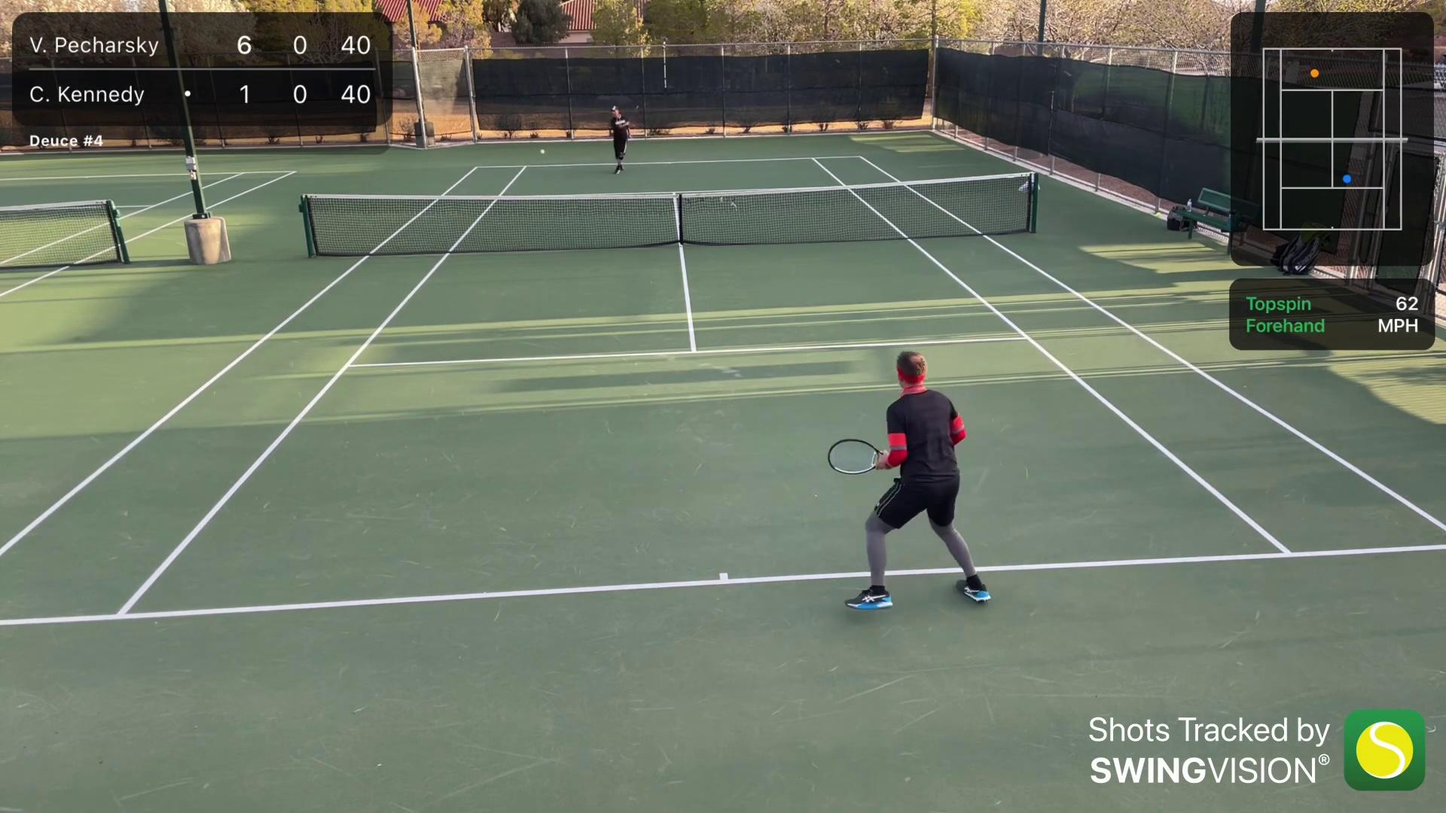ball: (538, 148, 545, 157)
